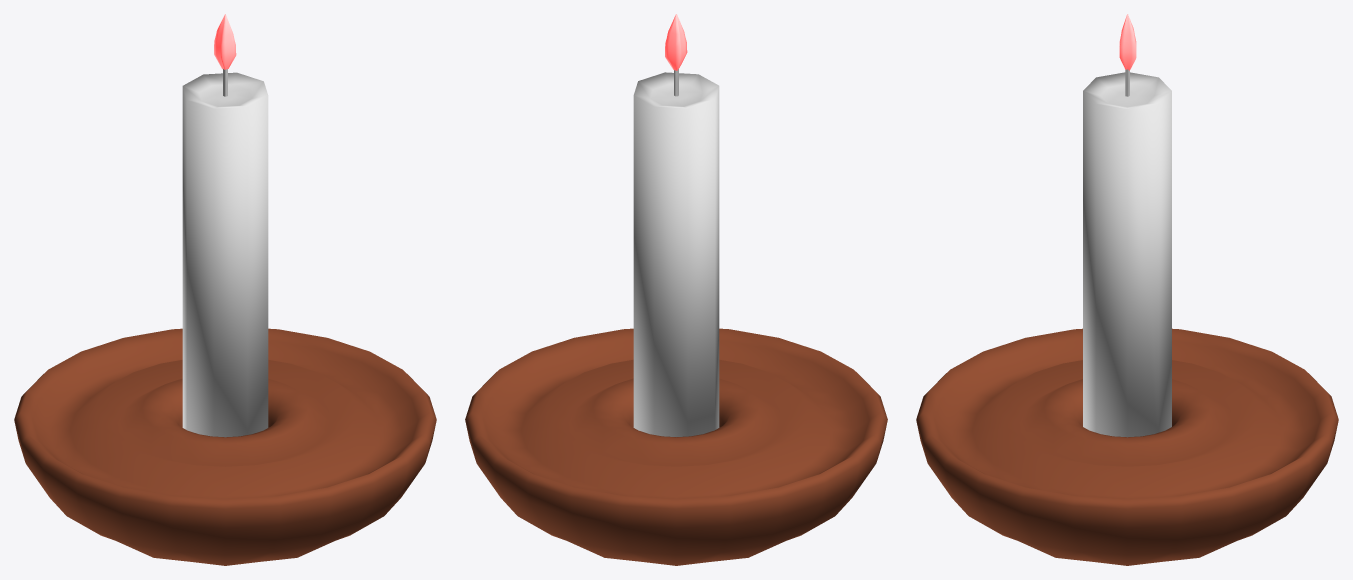
File: kynttila2.gltf
The picture shows the model from 3 angles, left to right: view 1: azimuth 30°, elevation 25°; view 2: azimuth 150°, elevation 25°; view 3: azimuth 270°, elevation 25°; orthographic projection.
Visible parts, largest first — view 1: alustaCylinder, kynttilaCylinder, liekkiCube; view 2: alustaCylinder, kynttilaCylinder, liekkiCube; view 3: alustaCylinder, kynttilaCylinder, liekkiCube.
Part boxes in pixels (x1,y1,x2,y2): alustaCylinder: (14,328,436,565); kynttilaCylinder: (182,72,268,437); liekkiCube: (214,14,236,69); alustaCylinder: (465,328,887,565); kynttilaCylinder: (633,72,719,436); liekkiCube: (665,14,687,70); alustaCylinder: (916,328,1338,565); kynttilaCylinder: (1083,72,1171,437); liekkiCube: (1119,14,1136,70).
Bounding box in the file's own units: 1.33 × 1.79 × 1.33.
